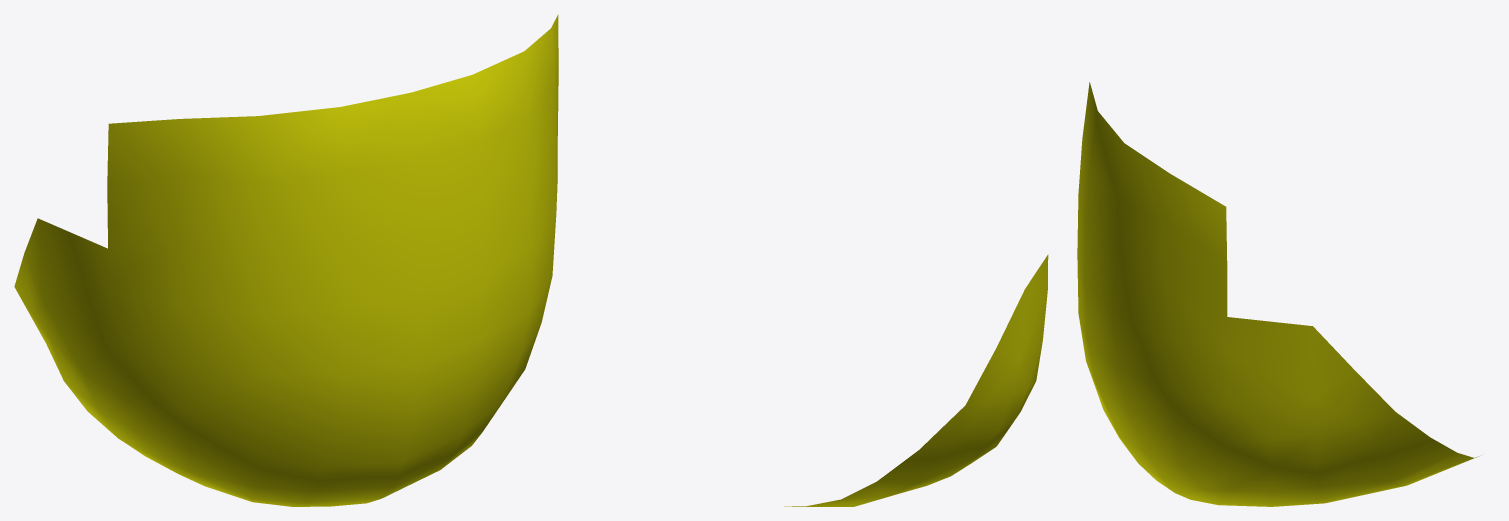
File: Faceline_9.glb
3 views of the same model, side by side, from view 1: azimuth 30°, elevation 25°; view 2: azimuth 150°, elevation 25°; view 3: azimuth 270°, elevation 25° (orthographic). The views are drawn at different scales.
Bounding box in the file's own units: 52.6 × 46.58 × 43.9.
